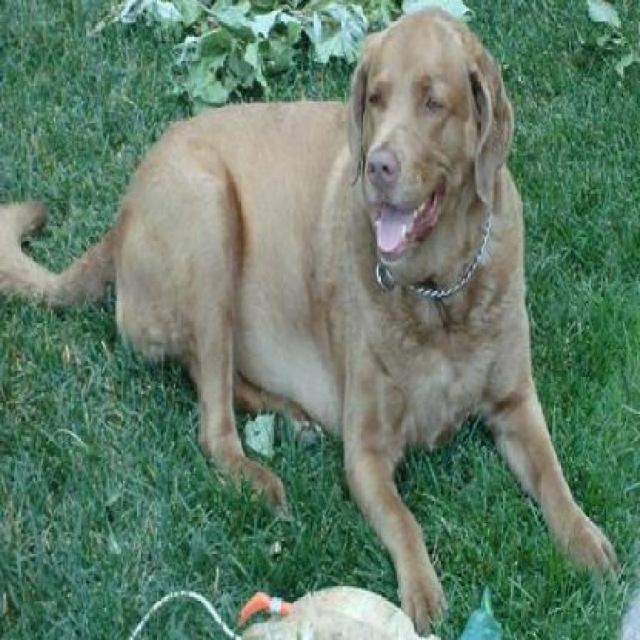Dog: (3, 0, 623, 638)
